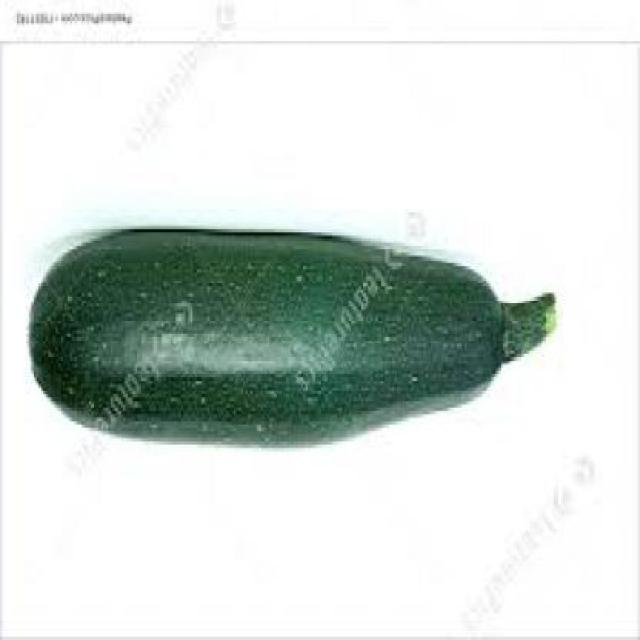BIODEGRADABLE: (32, 232, 556, 451)
